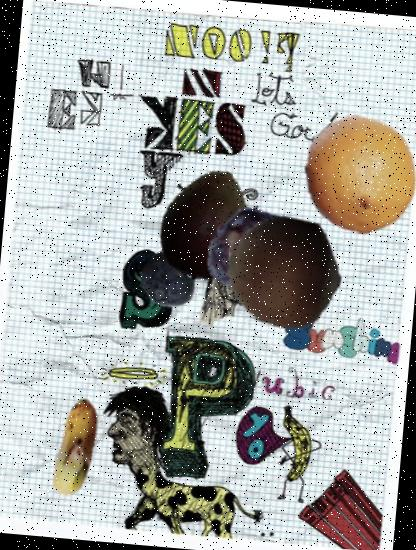Banana: (22, 393, 132, 502)
Blueberry: (138, 250, 201, 313)
Dates: (200, 196, 338, 334)
Lemon: (295, 110, 416, 239)
Mango: (150, 166, 270, 286)
Nut: (221, 210, 348, 336)
